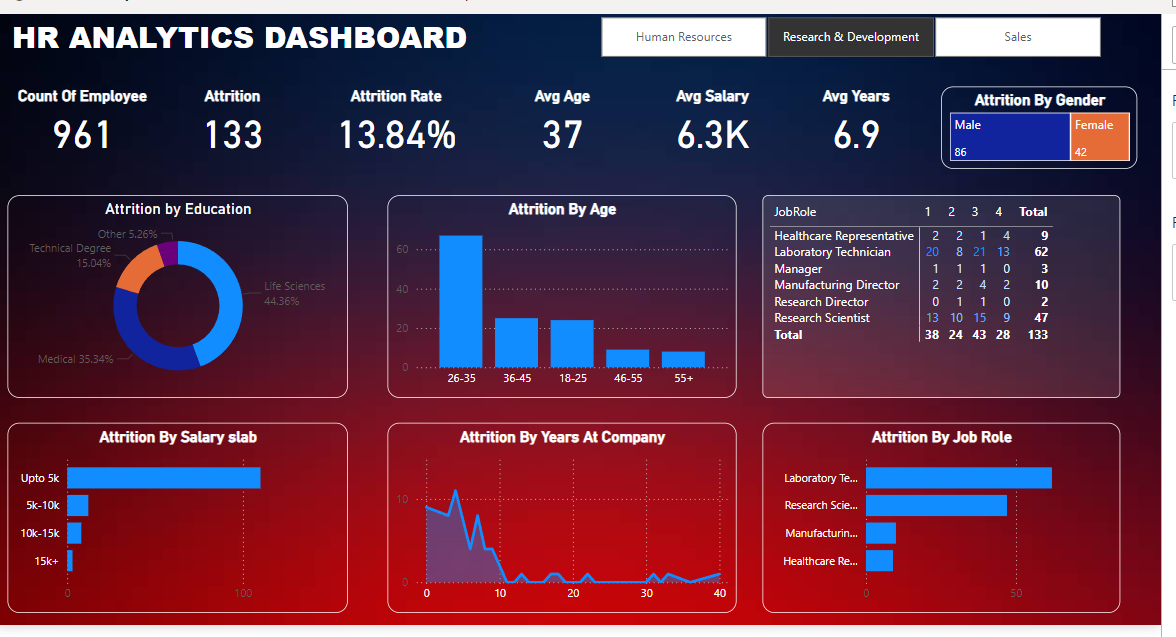

This screenshot's page, from the dashboard's own definition file:
{"tool":"powerbi","page":{"name":"Page 1","canvas":[1280,720],"ordinal":0},"visuals":[{"type":"card","title":"Count Of Employee","fields":{"Values":["CountNonNull(HR_Analytics.EmpID)"]},"box":[13.7,129,164.7,78.2],"z":0},{"type":"card","title":"Attrition","fields":{"Values":["Sum(HR_Analytics.Attrition_value)"]},"box":[178.4,129,164.7,78.2],"z":1000},{"type":"card","title":"Attrition Rate","fields":{"Values":["HR_Analytics.AttritionRate"]},"box":[358.1,129,164.7,78.2],"z":2000},{"type":"card","title":"Avg Age","fields":{"Values":["Avg(HR_Analytics.Age)"]},"box":[540.7,129,164.7,78.2],"z":3000},{"type":"card","title":"Avg Years","fields":{"Values":["Avg(HR_Analytics.YearsAtCompany)"]},"box":[863.1,129,164.7,78.2],"z":4000},{"type":"card","title":"Avg Salary","fields":{"Values":["Avg(HR_Analytics.MonthlyIncome)"]},"box":[705.3,129,164.7,78.2],"z":5000},{"type":"donutChart","title":"Attrition by Education","fields":{"Category":["HR_Analytics.EducationField"],"Y":["Sum(HR_Analytics.Attrition_value)"]},"box":[13.7,248.4,373.2,222.3],"z":6000},{"type":"columnChart","title":"Attrition By Age","fields":{"Category":["HR_Analytics.AgeGroup"],"Y":["Sum(HR_Analytics.Attrition_value)"]},"box":[430.9,248.4,382.8,222.3],"z":7000},{"type":"barChart","title":"Attrition By Salary slab","fields":{"Category":["HR_Analytics.SalarySlab"],"Y":["Sum(HR_Analytics.Attrition_value)"]},"box":[13.7,498.1,373.2,208.6],"z":8000},{"type":"barChart","title":"Attrition By Job Role","fields":{"Category":["HR_Analytics.JobRole"],"Y":["Sum(HR_Analytics.Attrition_value)"]},"box":[842.5,498.1,392.5,208.6],"z":9000},{"type":"pivotTable","title":"Job Satisfaction","fields":{"Rows":["HR_Analytics.JobRole"],"Columns":["HR_Analytics.JobSatisfaction"],"Values":["Sum(HR_Analytics.Attrition_value)"]},"box":[842.5,248.4,392.5,222.3],"z":10000},{"type":"areaChart","title":"Attrition By Years At Company","fields":{"Category":["HR_Analytics.YearsAtCompany"],"Y":["Sum(HR_Analytics.Attrition_value)"]},"box":[430.9,498.1,382.8,208.6],"z":11000},{"type":"treemap","title":"Attrition By Gender","fields":{"Group":["HR_Analytics.Gender"],"Values":["Sum(HR_Analytics.Attrition_value)"]},"box":[1038.3,128.3,215,90],"z":12000},{"type":"slicer","fields":{"Values":["HR_Analytics.Department"]},"box":[640,31.7,598.3,71.7],"z":13000},{"type":"textbox","box":[13.3,46.7,526.7,70],"z":14000}]}

Visuals, with their boxes in screenshot pixels (x1, y1, x2, y2):
"Count Of Employee" card: rect(52, 98, 201, 169)
"Attrition" card: rect(201, 98, 350, 169)
"Attrition Rate" card: rect(364, 98, 513, 169)
"Avg Age" card: rect(529, 98, 678, 169)
"Avg Years" card: rect(821, 98, 970, 169)
"Avg Salary" card: rect(678, 98, 827, 169)
"Attrition by Education" donutChart: rect(52, 206, 390, 407)
"Attrition By Age" columnChart: rect(430, 206, 776, 407)
"Attrition By Salary slab" barChart: rect(52, 432, 390, 621)
"Attrition By Job Role" barChart: rect(802, 432, 1157, 621)
"Job Satisfaction" pivotTable: rect(802, 206, 1157, 407)
"Attrition By Years At Company" areaChart: rect(430, 432, 776, 621)
"Attrition By Gender" treemap: rect(979, 98, 1173, 179)
slicer - HR_Analytics.Department: rect(619, 10, 1160, 75)
textbox: rect(52, 24, 528, 87)
